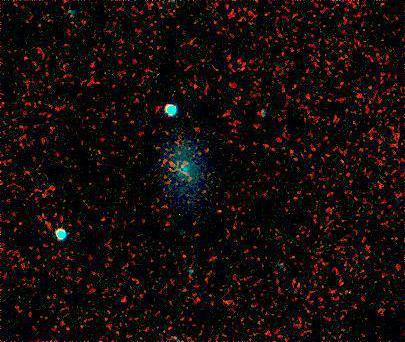star: (208, 197, 238, 227)
